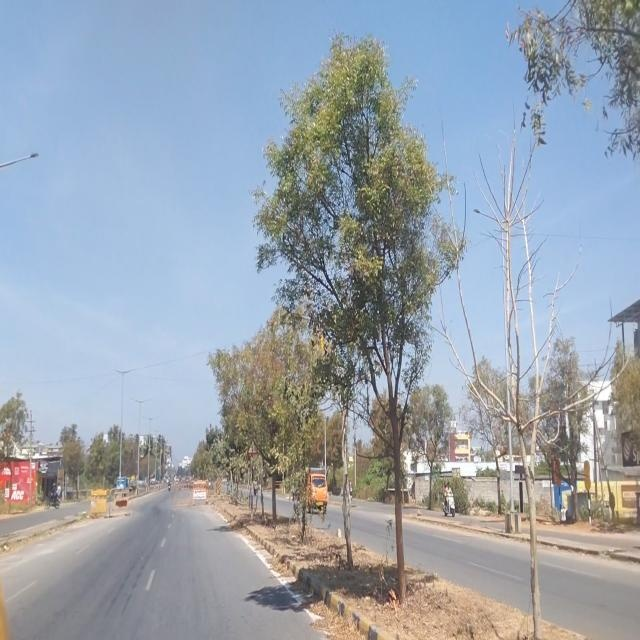bien_nguy_hiem: (247, 438, 258, 455)
